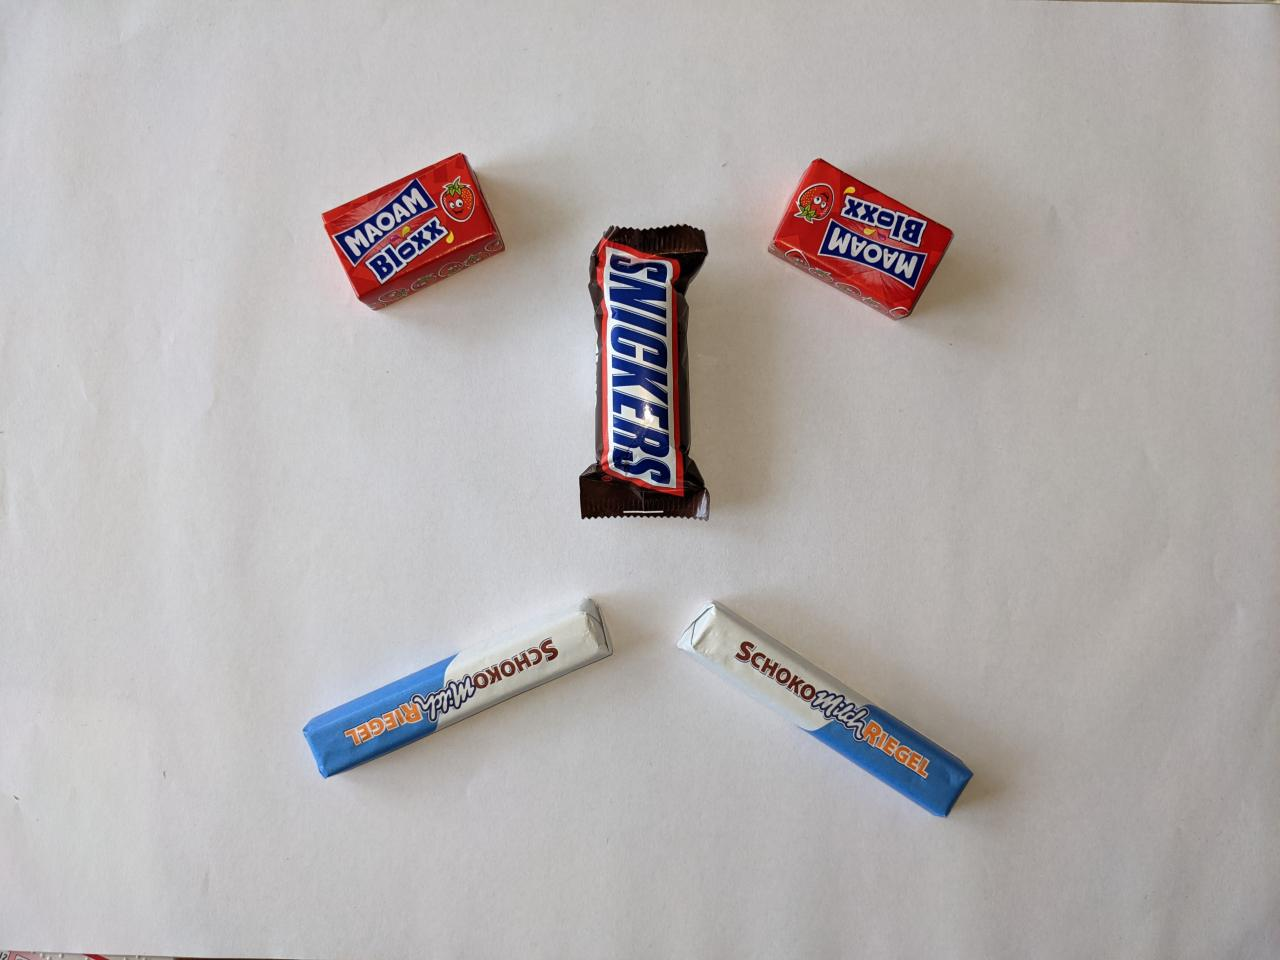MAOAM: (758, 150, 961, 325), (314, 147, 513, 315)
Schokoriegel: (662, 592, 983, 828), (295, 590, 619, 787)
Snickers: (569, 216, 719, 528)
